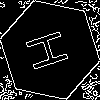H: (25, 25, 78, 74)
